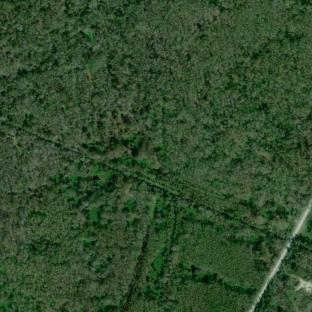Floresta: (0, 0, 312, 312), (255, 230, 312, 312)
